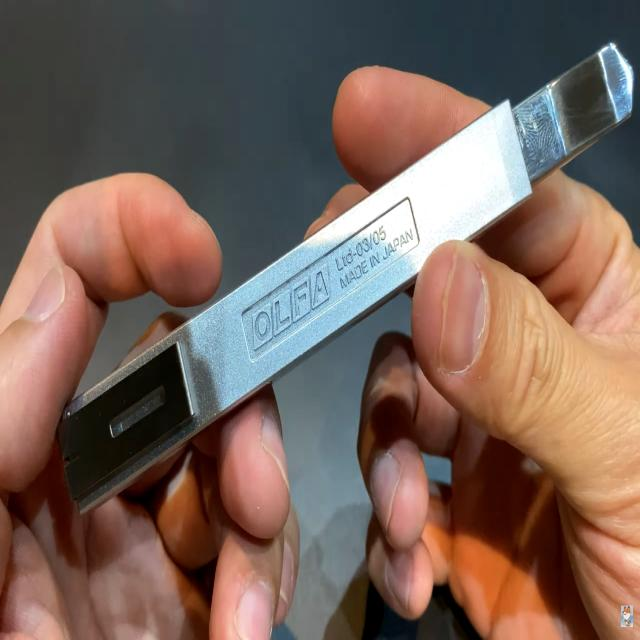cutter: (9, 2, 640, 562)
